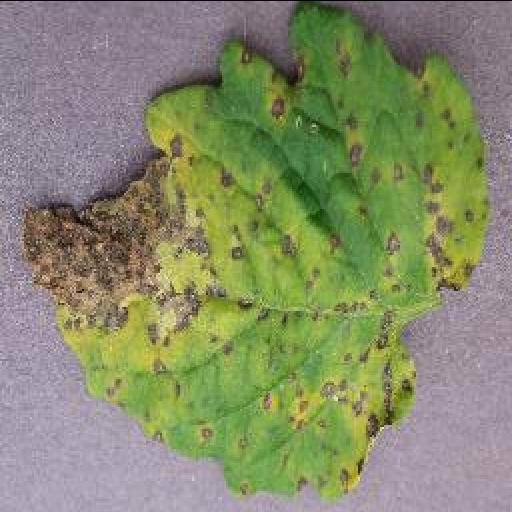disease_tomato: (22, 0, 494, 496)
